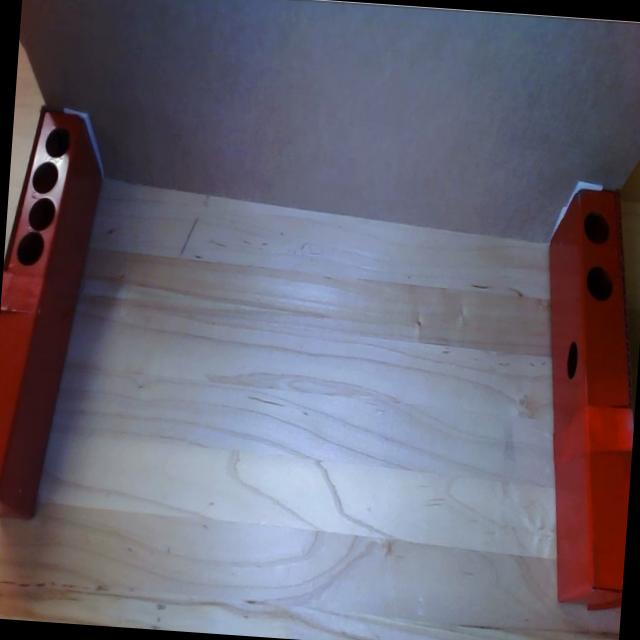Hole: (15, 229, 46, 267), (26, 196, 56, 232), (585, 263, 613, 300), (582, 209, 610, 244), (32, 160, 58, 194), (44, 126, 70, 158), (564, 338, 579, 381)
